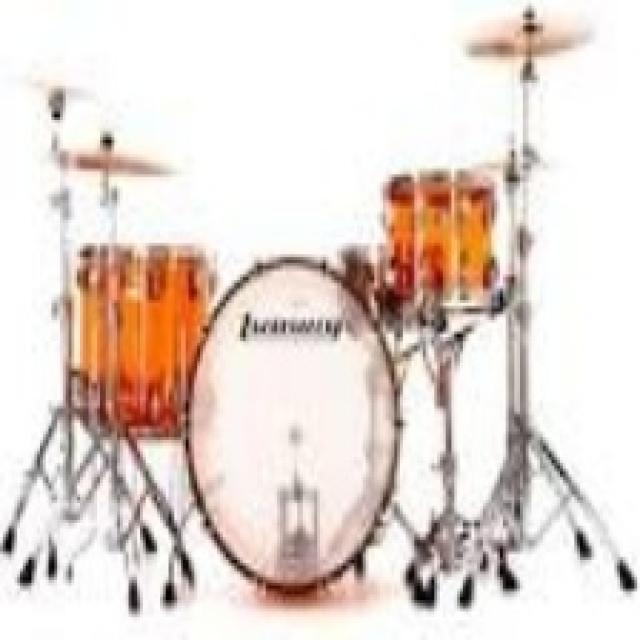drums: (12, 2, 600, 608)
